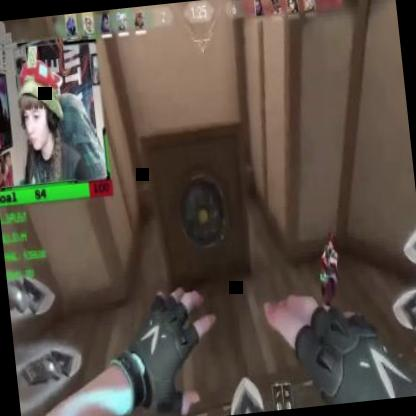enemy: (310, 230, 344, 320)
enemy_head: (328, 235, 336, 252)
